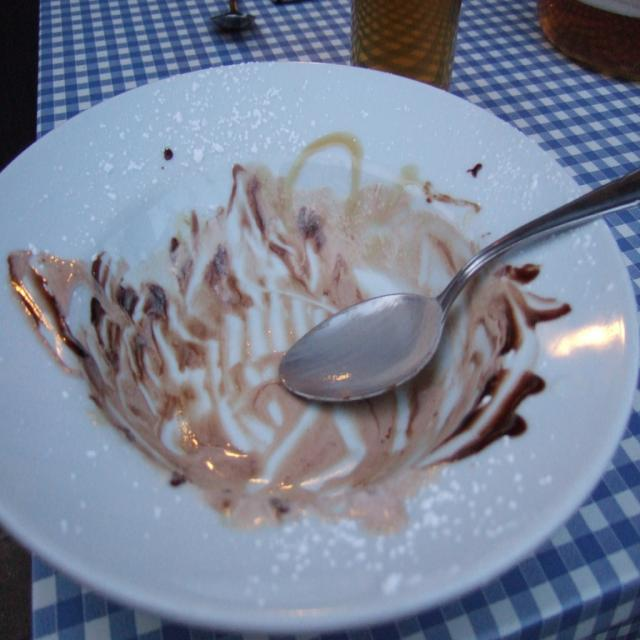non-organic waste: (11, 70, 635, 635)
